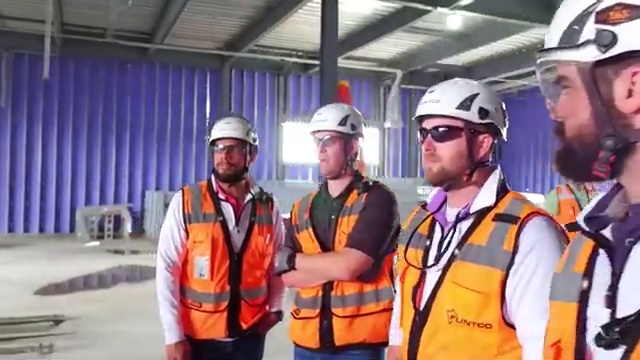helmet: (410, 74, 516, 146), (536, 3, 640, 61), (305, 100, 368, 140), (201, 110, 258, 147)
jacket: (388, 194, 563, 359), (290, 181, 395, 348), (182, 181, 280, 341), (556, 215, 640, 360)
